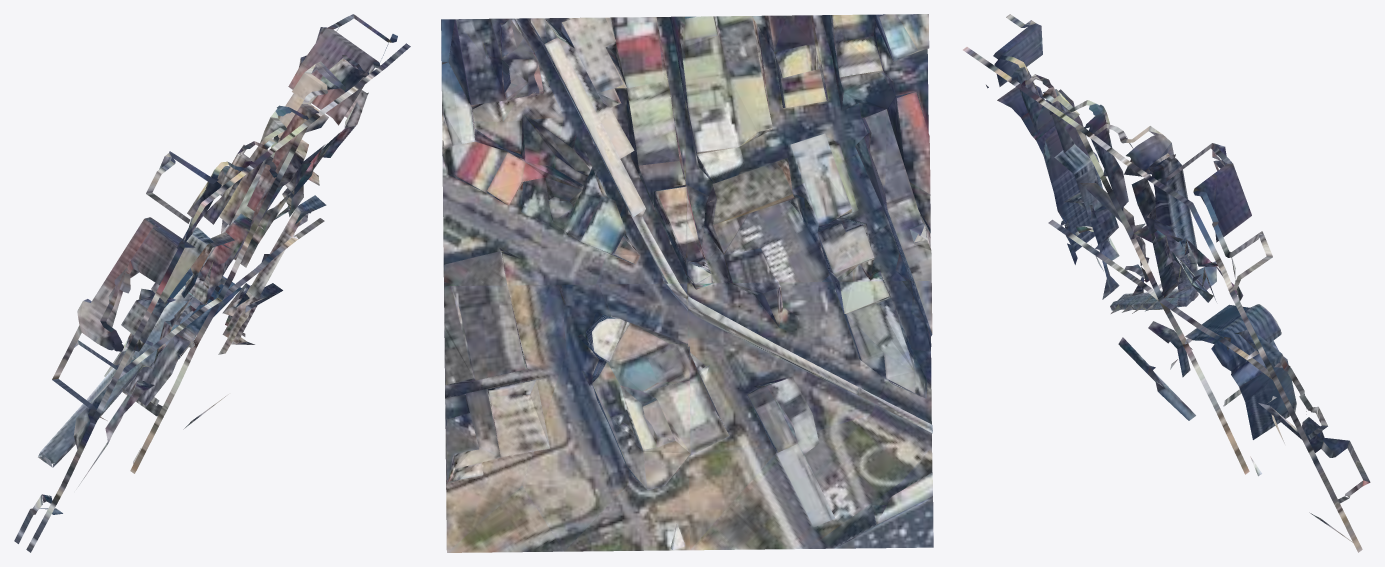
The picture shows the model from 3 angles, left to right: view 1: azimuth 30°, elevation 25°; view 2: azimuth 150°, elevation 25°; view 3: azimuth 270°, elevation 25°; orthographic projection. The views are drawn at different scales.
Bounding box in the file's own units: 310 × 296 × 261.
2 materials, 2 textured.
